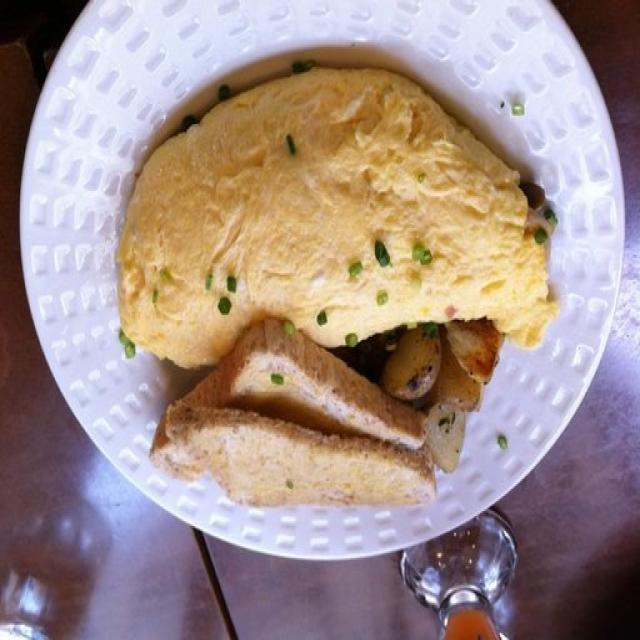telur_ayam_dadar: (119, 60, 563, 369)
